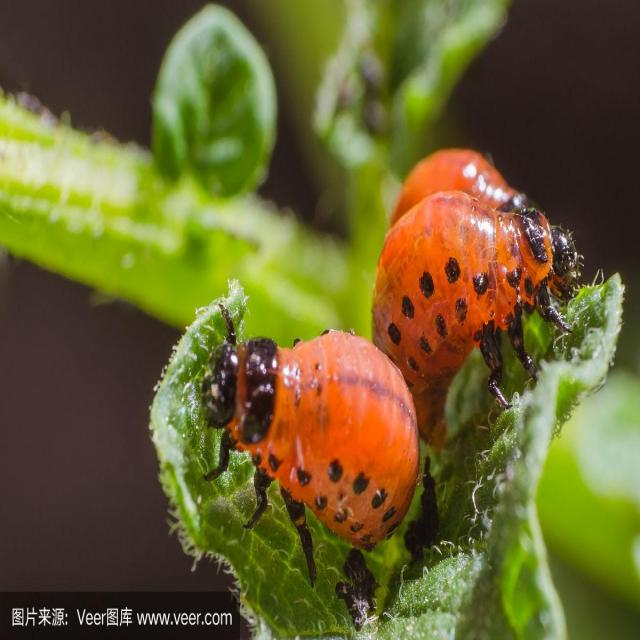ShuCaiHuaBanChong-Larva-: (198, 309, 436, 564), (350, 167, 568, 405)
